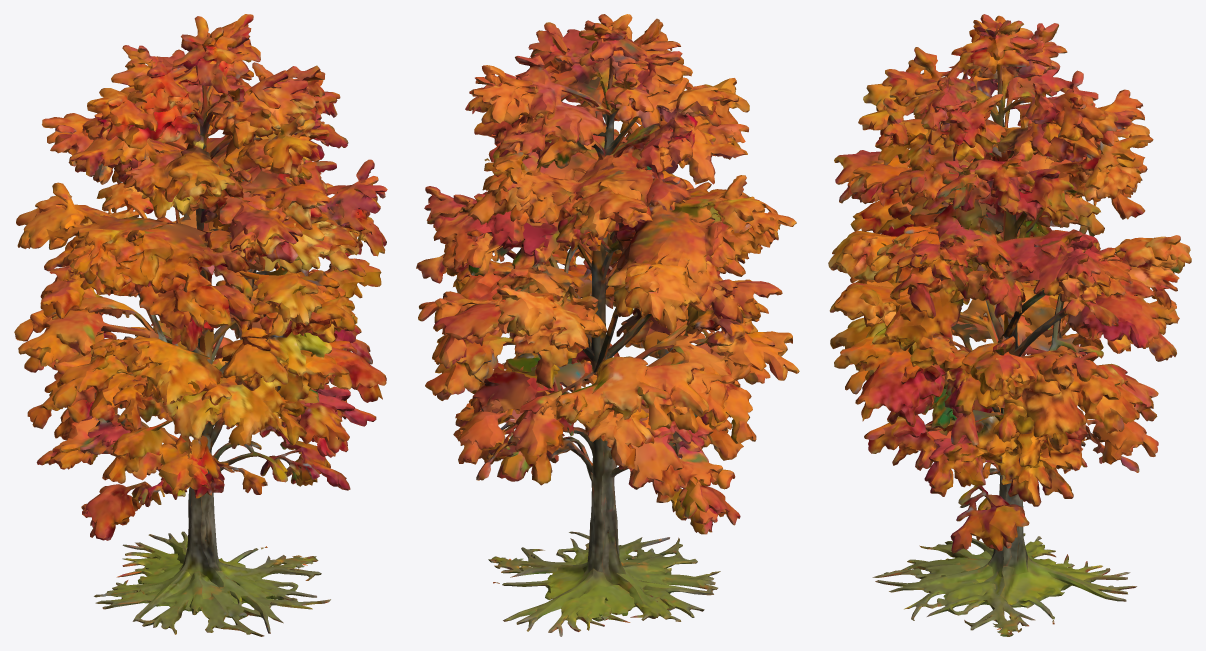
The model's file is Maple_01.fbx.
3 renders of one model, left to right at view 1: azimuth 30°, elevation 25°; view 2: azimuth 150°, elevation 25°; view 3: azimuth 270°, elevation 25°, orthographic.
Parts seen in each view (by area): view 1: geometry_0; view 2: geometry_0; view 3: geometry_0.
Boxes of the visible parts, x1=… form: geometry_0: x1=14, y1=14, x2=387, y2=636; geometry_0: x1=416, y1=14, x2=799, y2=636; geometry_0: x1=828, y1=14, x2=1191, y2=636.
Size of the model in its own units: 374 by 600 by 347.
